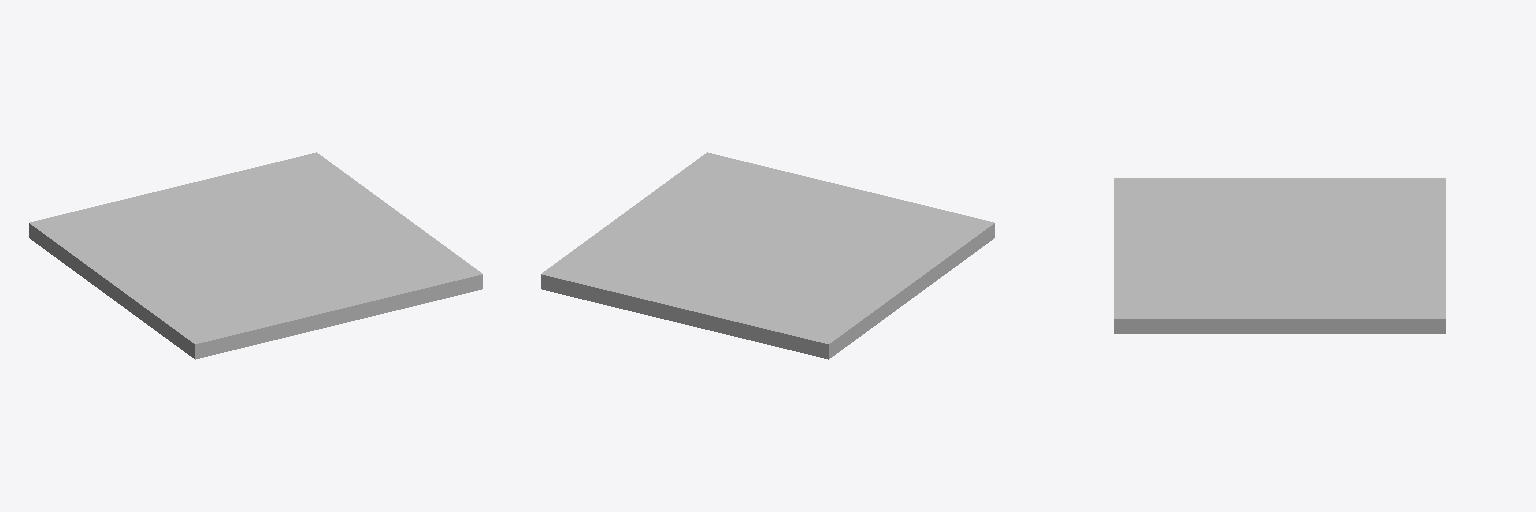
The model's file is runway1.obj.
3 views of the same model, side by side, from view 1: azimuth 30°, elevation 25°; view 2: azimuth 150°, elevation 25°; view 3: azimuth 270°, elevation 25° (orthographic).
Parts seen in each view (by area): view 1: Plane.001; view 2: Plane.001; view 3: Plane.001.
Boxes of the visible parts, box(x1,y1,x2,y2) form: Plane.001: box(29, 152, 482, 359); Plane.001: box(541, 152, 994, 359); Plane.001: box(1114, 178, 1445, 333).
Bounding box in the file's own units: 349 × 17.44 × 349.